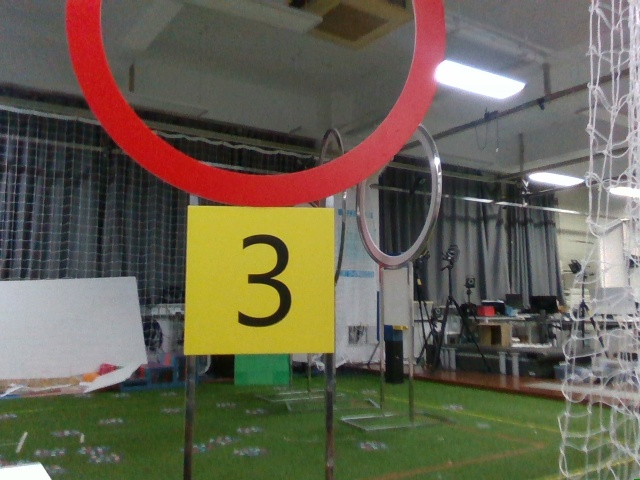target: (192, 218, 329, 346)
